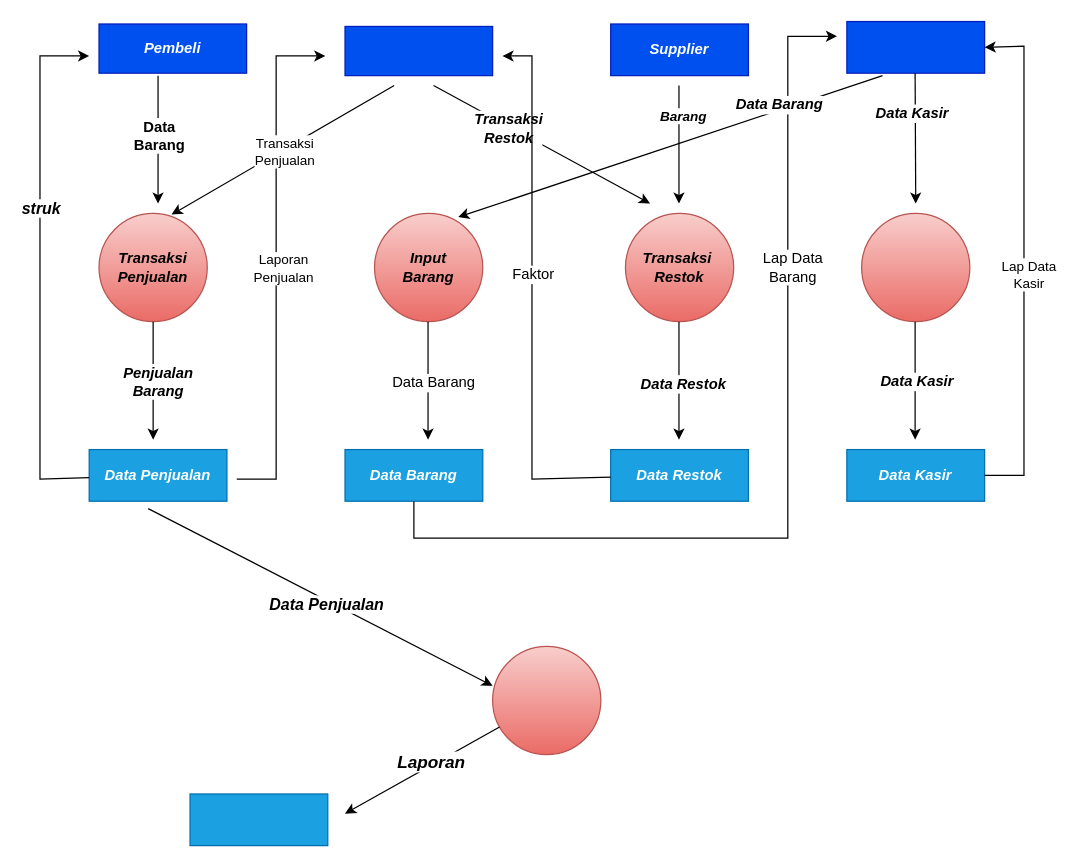
The diagram is 1077 pixels wide and 867 high, and some of its shapes have lost their labels. Each missing label, with the centre of its shape:
Admin: the point at 915,46
Generate Laporan: the point at 546,700
Input Kasir: the point at 915,267
Kasir: the point at 418,50
Pinpinan: the point at 258,819
